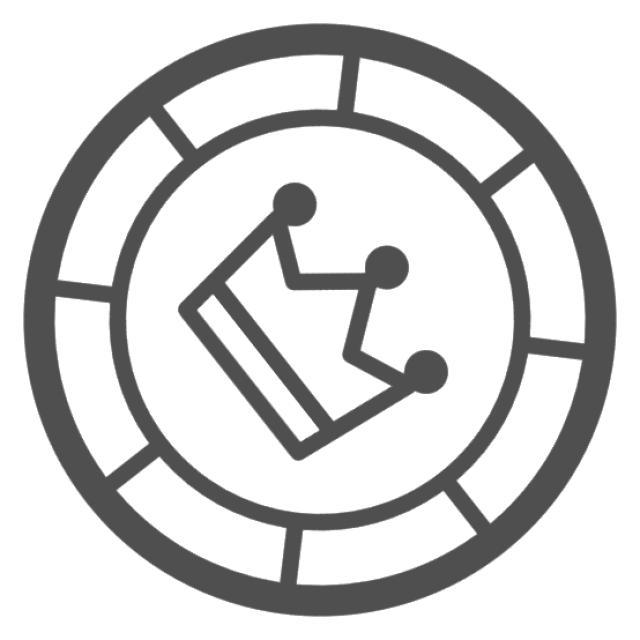coin: (15, 15, 619, 628)
